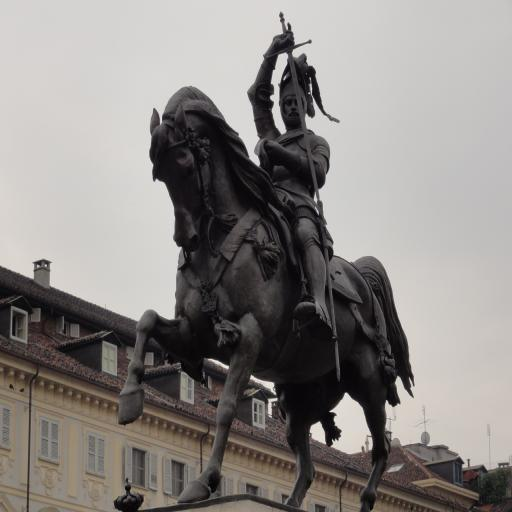horse: (116, 82, 416, 512)
